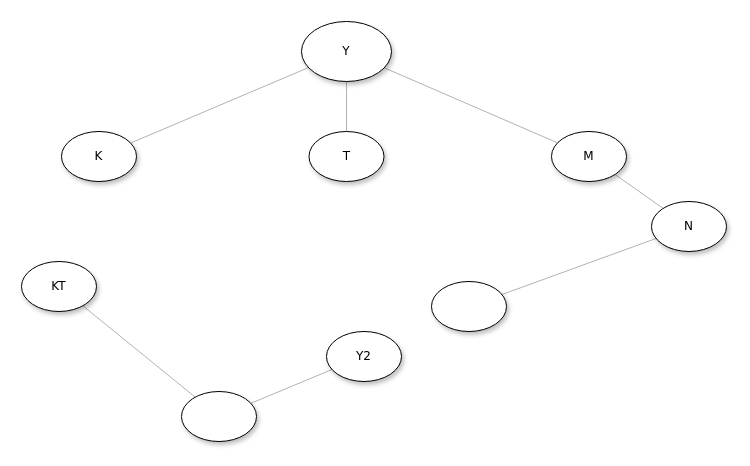
This 750x466 diagram has some shape labels left out. The shapes that lost their labels are listed below. From the top down, each one's centre as x and y in pixels, then its label:
pixel 469 307: Y1
pixel 219 417: I2
